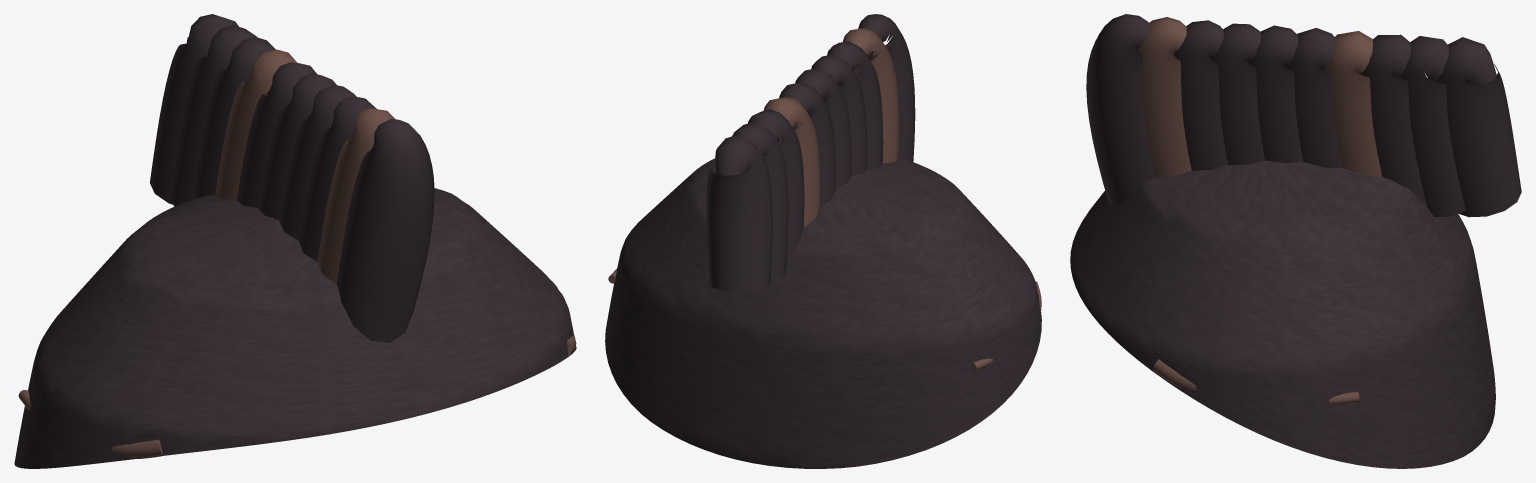
File: hair_mohawk_default.gltf
3 views of the same model, side by side, from view 1: azimuth 30°, elevation 25°; view 2: azimuth 150°, elevation 25°; view 3: azimuth 270°, elevation 25° (orthographic). The views are drawn at different scales.
Parts seen in each view (by area): view 1: Razor Crest default; view 2: Razor Crest default; view 3: Razor Crest default.
Part boxes in pixels (x1,y1,x2,y2): Razor Crest default: (14, 14, 576, 468); Razor Crest default: (605, 14, 1041, 468); Razor Crest default: (1070, 14, 1521, 468).
Bounding box in the file's own units: 0.4534 × 0.3577 × 0.3694.
2 materials, 2 textured.
